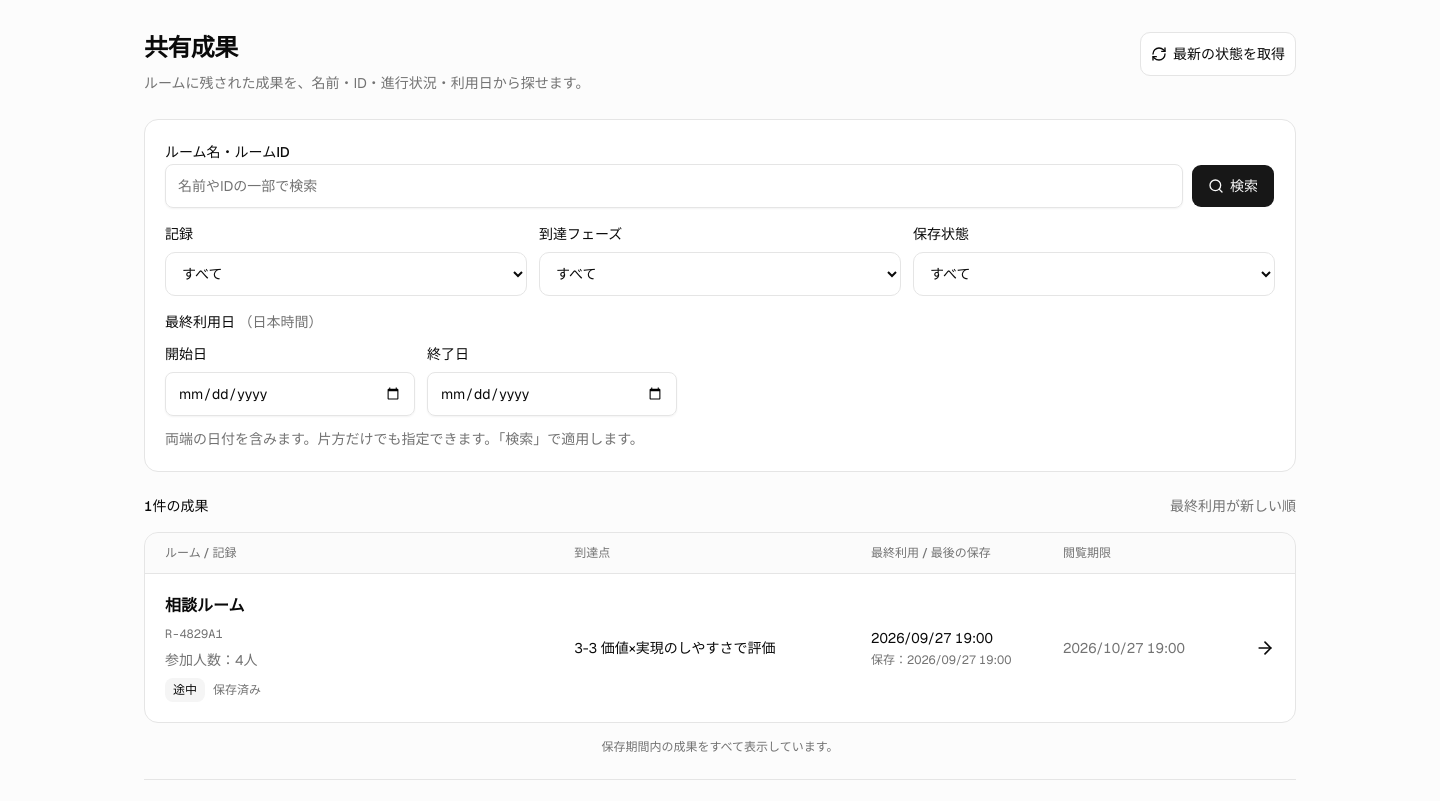
履歴取得の認可拒否 401 で既存の詳細も隠す
Click the link "相談ルーム".
click(720, 648)  # box [145,574,1295,722]
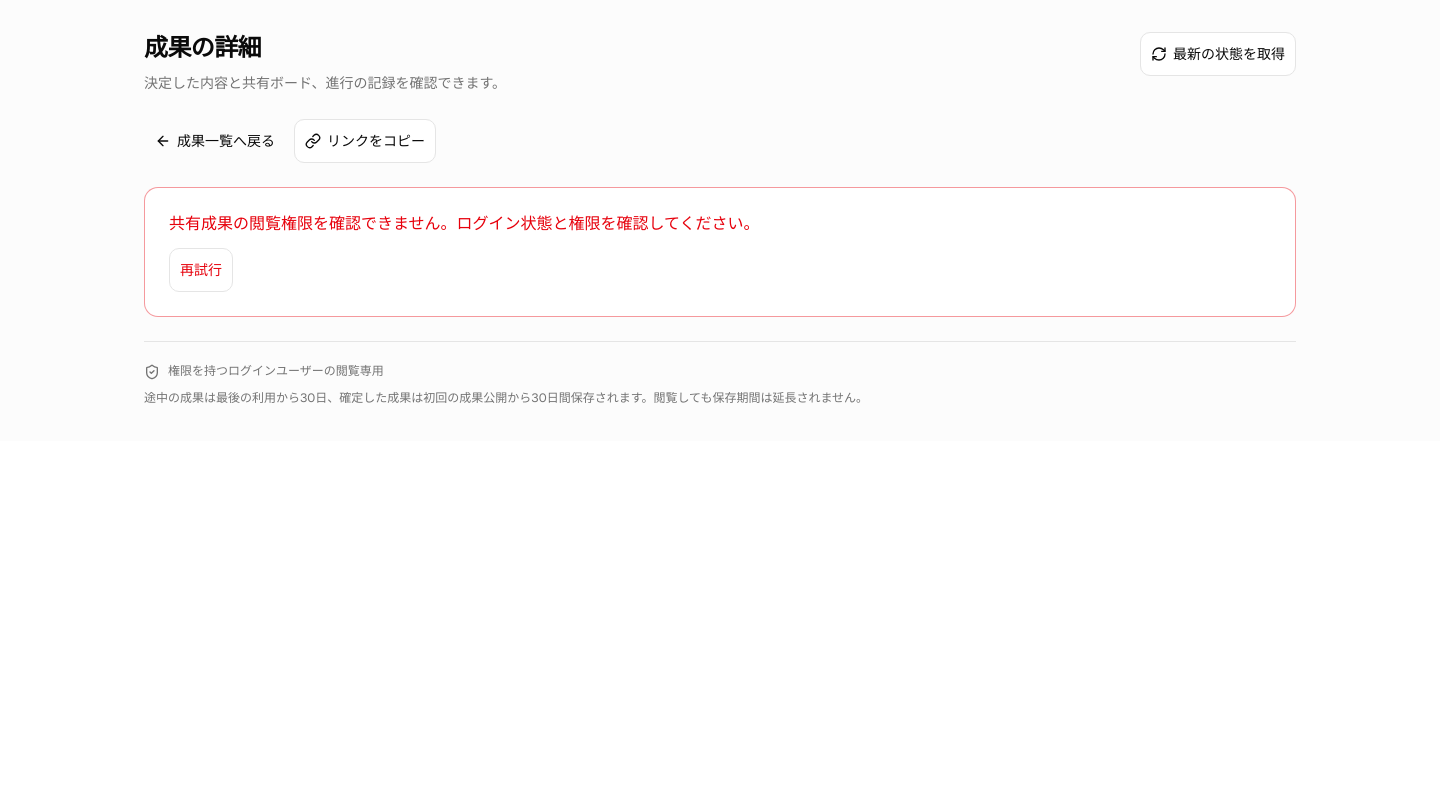
Expected: the message "共有成果の閲覧権限を確認できません。ログイン状態と権限を確認してください。 再試行" is shown, [144,187,1296,317]
